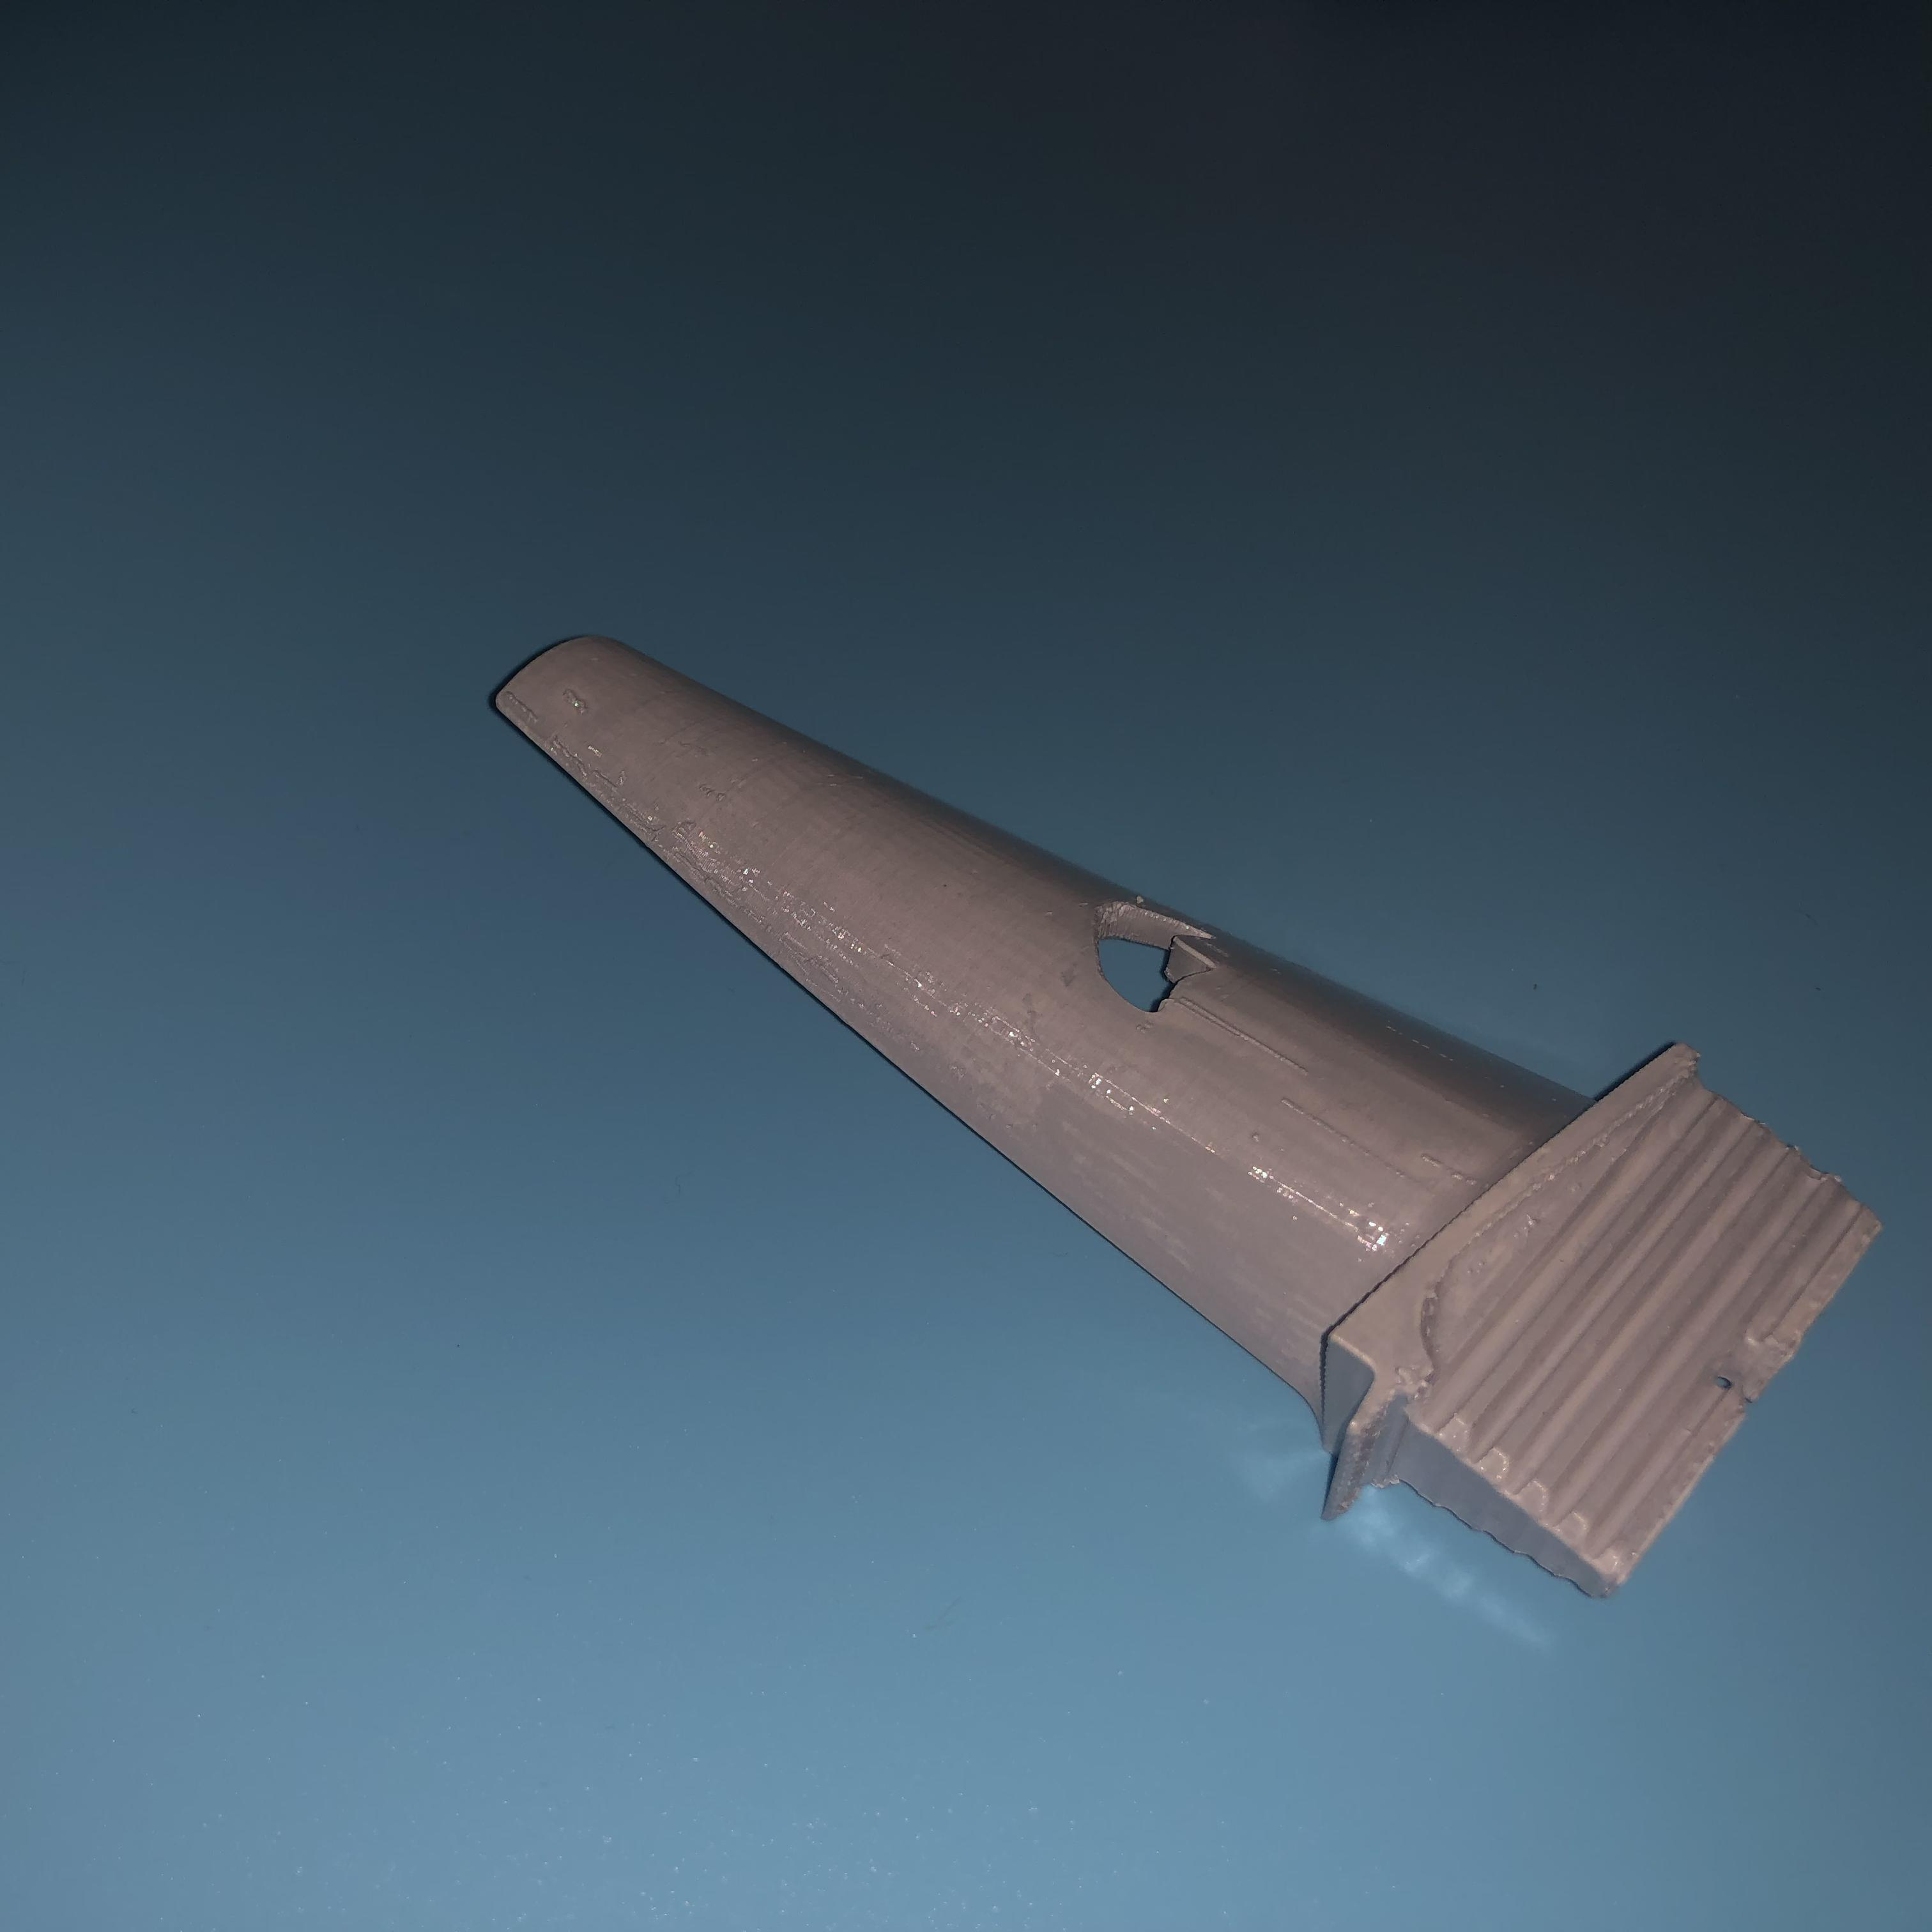breakdown: (1083, 892, 1238, 1024)
